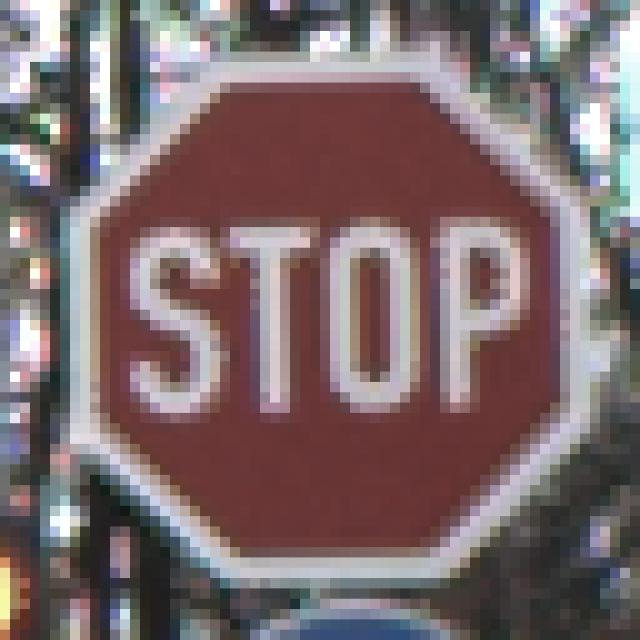STOP: (61, 53, 591, 590)
